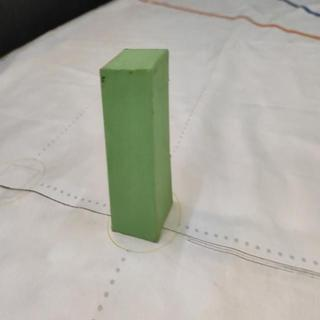greenbox: (99, 49, 175, 238)
